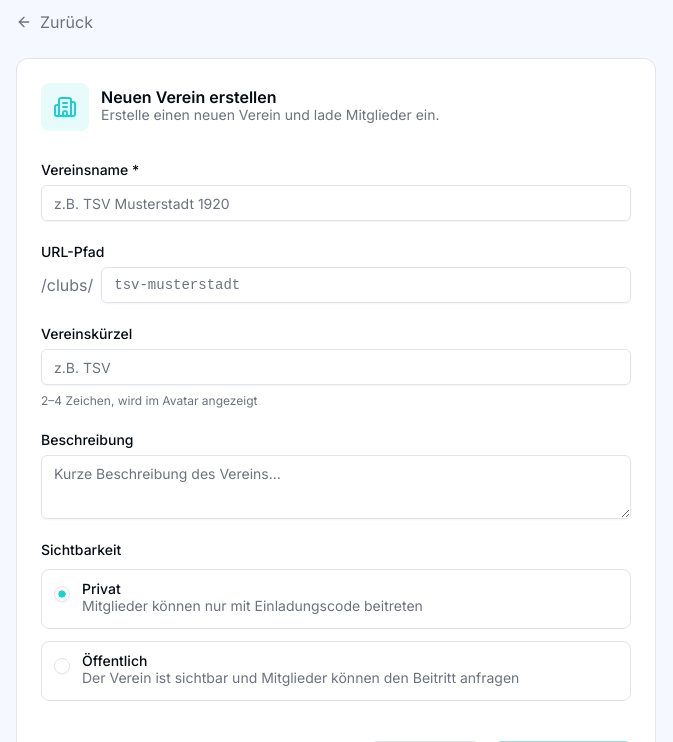
Test: NewClubPage › validation › shows slug availability status
This screenshot has width=673, height=742.
Type "Test Club" into the field labelled "Vereinsname *".
click(336, 203); type("Test Club")  # box left=41, top=185, right=631, bottom=221
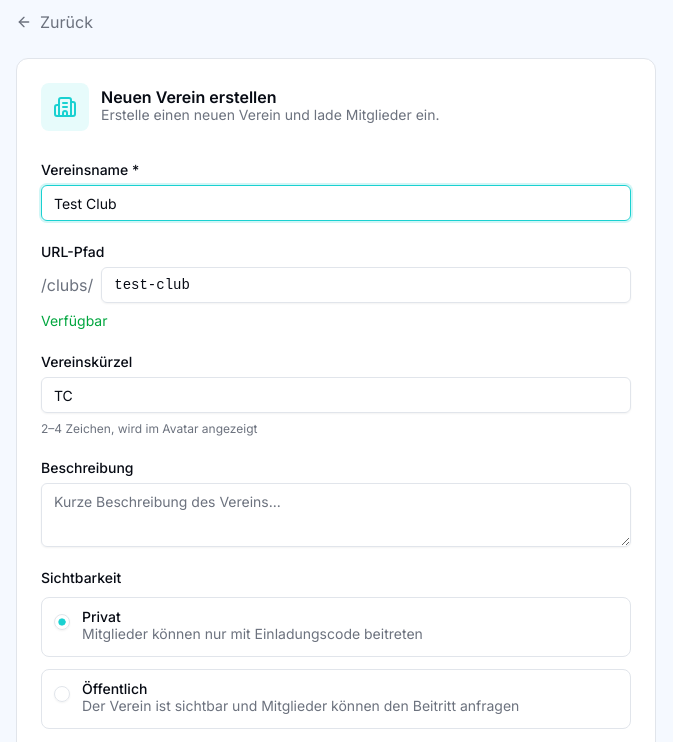
Result: the text "Verfügbar" is shown at left=41, top=312, right=108, bottom=329
